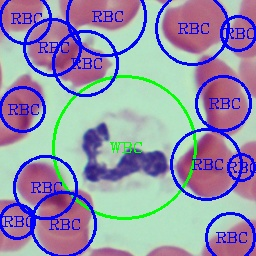RBC: (172, 128, 236, 200), (158, 0, 231, 56), (22, 15, 82, 72), (47, 38, 112, 90), (34, 184, 93, 240), (189, 50, 242, 110), (12, 156, 68, 210), (198, 84, 250, 139), (5, 70, 49, 122), (0, 194, 38, 254), (0, 88, 32, 151), (84, 0, 145, 32), (35, 221, 90, 255), (224, 9, 255, 61), (0, 0, 48, 32)
WBC: (69, 108, 176, 194)
